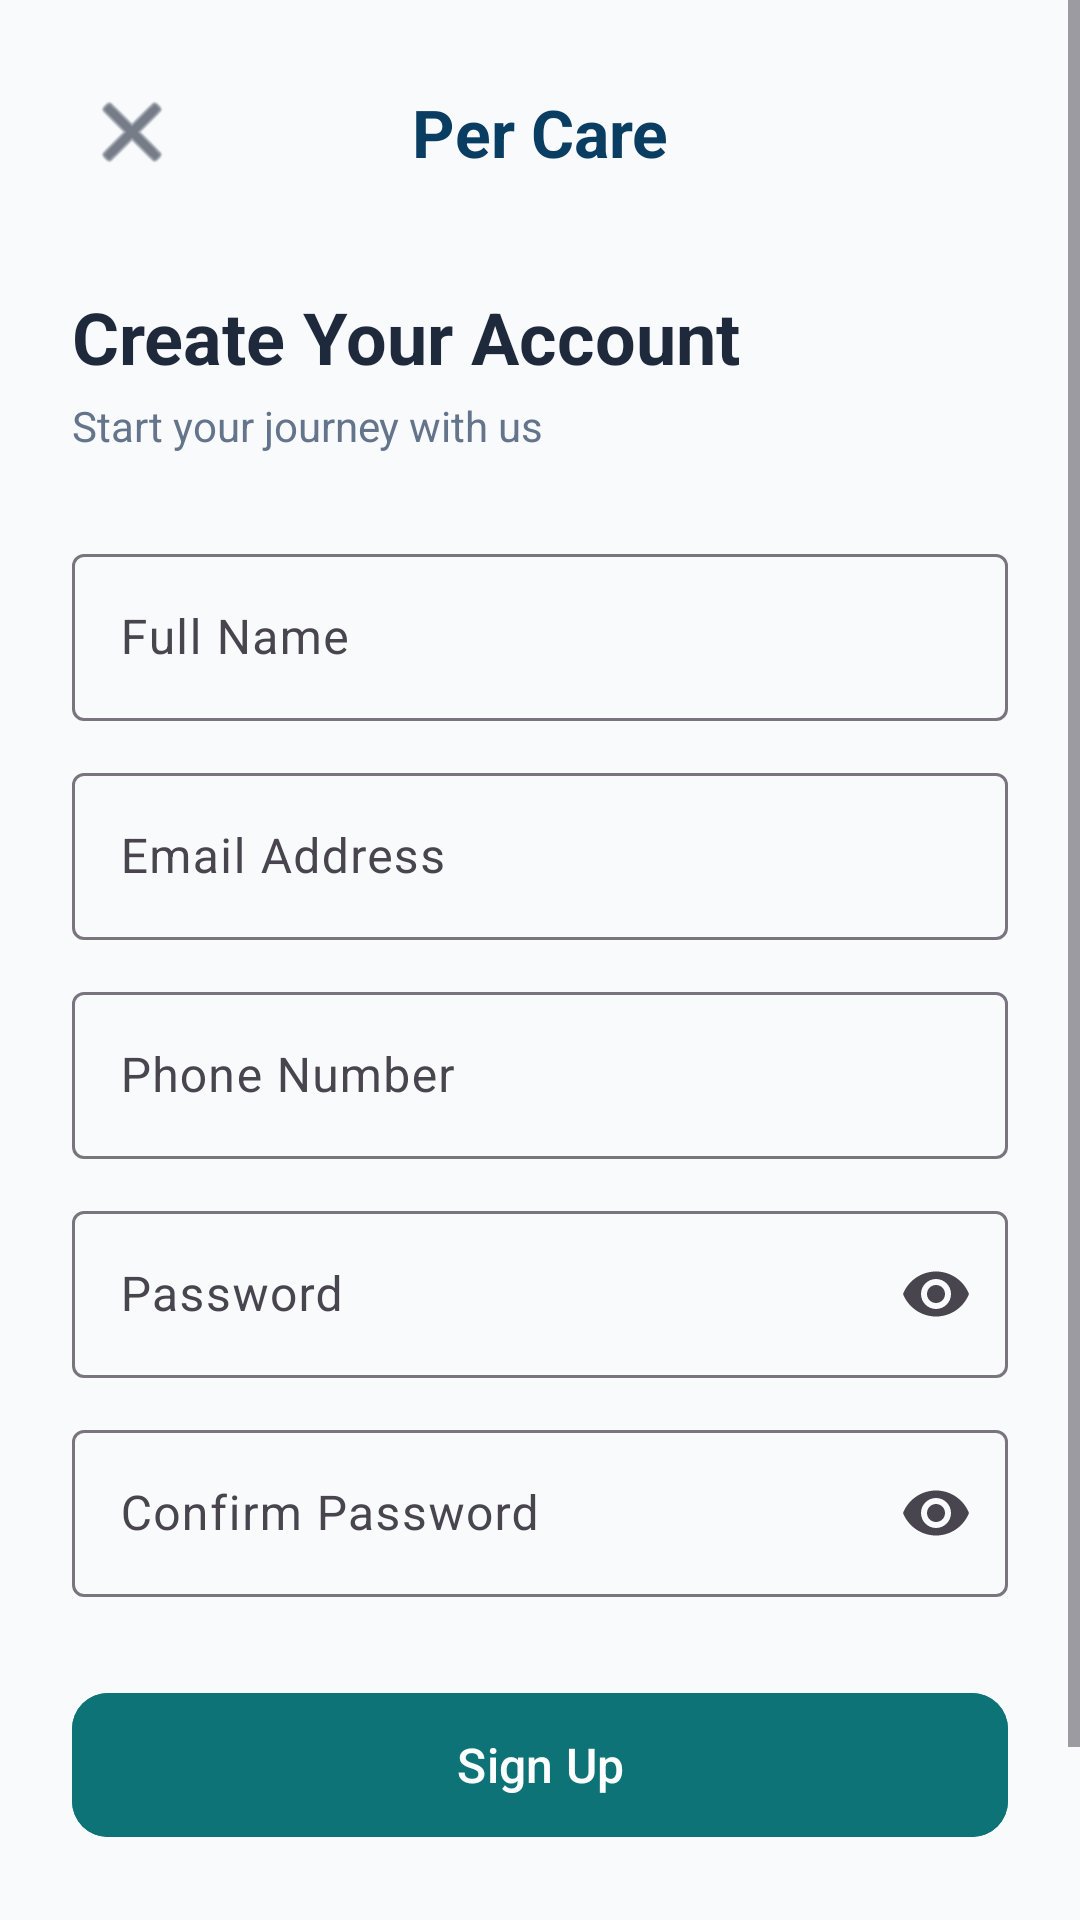

Icon bounding boxes for this 1080 x 1920 phone screenshot, format rect(x1, y1, x2, y2):
close clear cancel: rect(102, 102, 162, 162)
